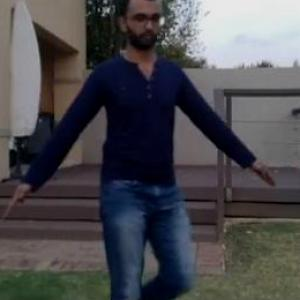land: (2, 12, 233, 294)
